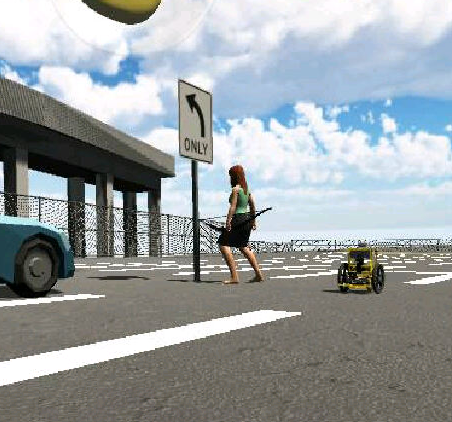arrow_left: (179, 94, 210, 139)
